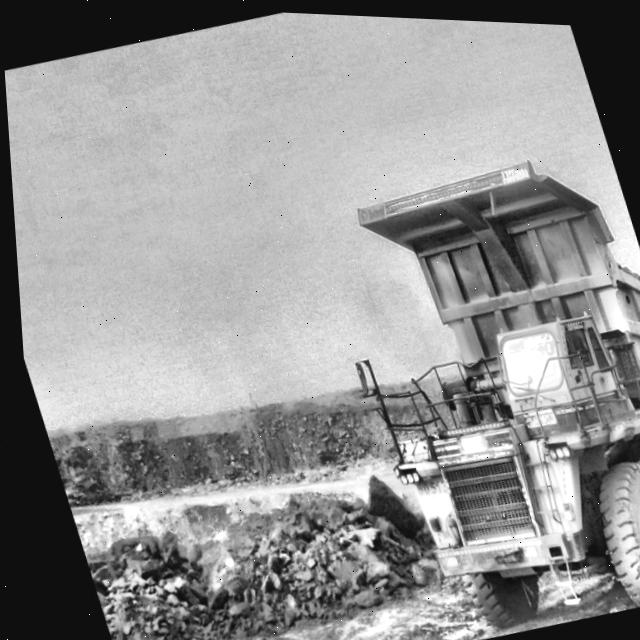dump_truck: (354, 158, 640, 620), (443, 401, 447, 405)
